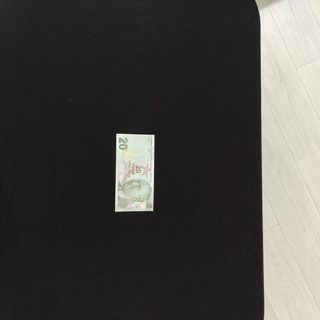20TLFront: (114, 133, 154, 212)
